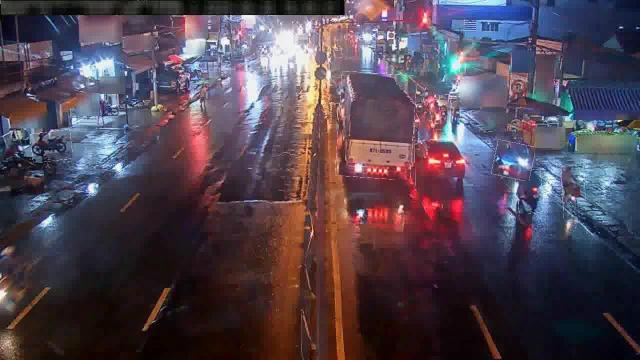Bike: (492, 140, 534, 180), (32, 130, 72, 162), (562, 166, 586, 218), (516, 170, 544, 214), (430, 100, 442, 130), (440, 96, 450, 125), (451, 97, 461, 123)
Car: (415, 140, 473, 186)
Truck: (337, 73, 415, 179)
